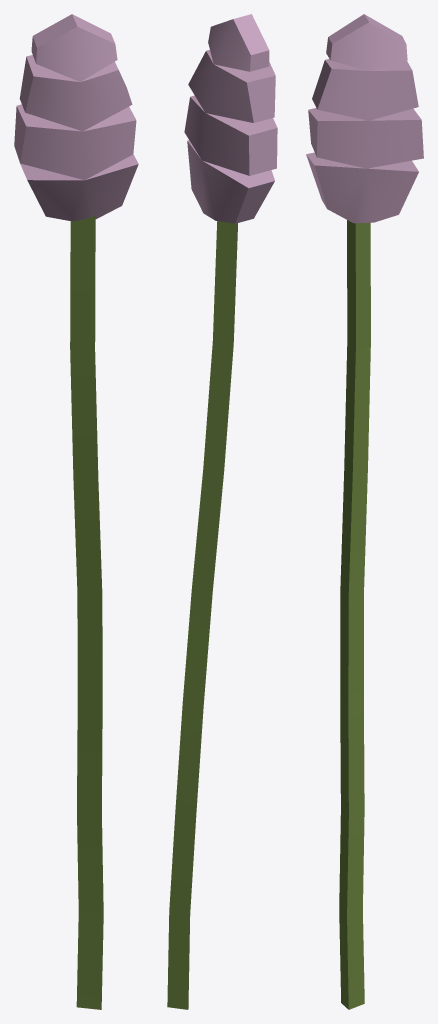
Rendered from plant_water_twig_solo_I.fbx.
3 views of the same model, side by side, from view 1: azimuth 90°, elevation 25°; view 2: azimuth 210°, elevation 25°; view 3: azimuth 270°, elevation 25° (orthographic). The views are drawn at different scales.
Parts seen in each view (by area): view 1: plant_water_twig_solo_I; view 2: plant_water_twig_solo_I; view 3: plant_water_twig_solo_I.
Part boxes in pixels (x1,y1,x2,y2): plant_water_twig_solo_I: [14, 14, 138, 1009]; plant_water_twig_solo_I: [167, 14, 277, 1009]; plant_water_twig_solo_I: [306, 14, 423, 1009].
Bounding box in the file's own units: 3.56 × 35.96 × 3.99.
